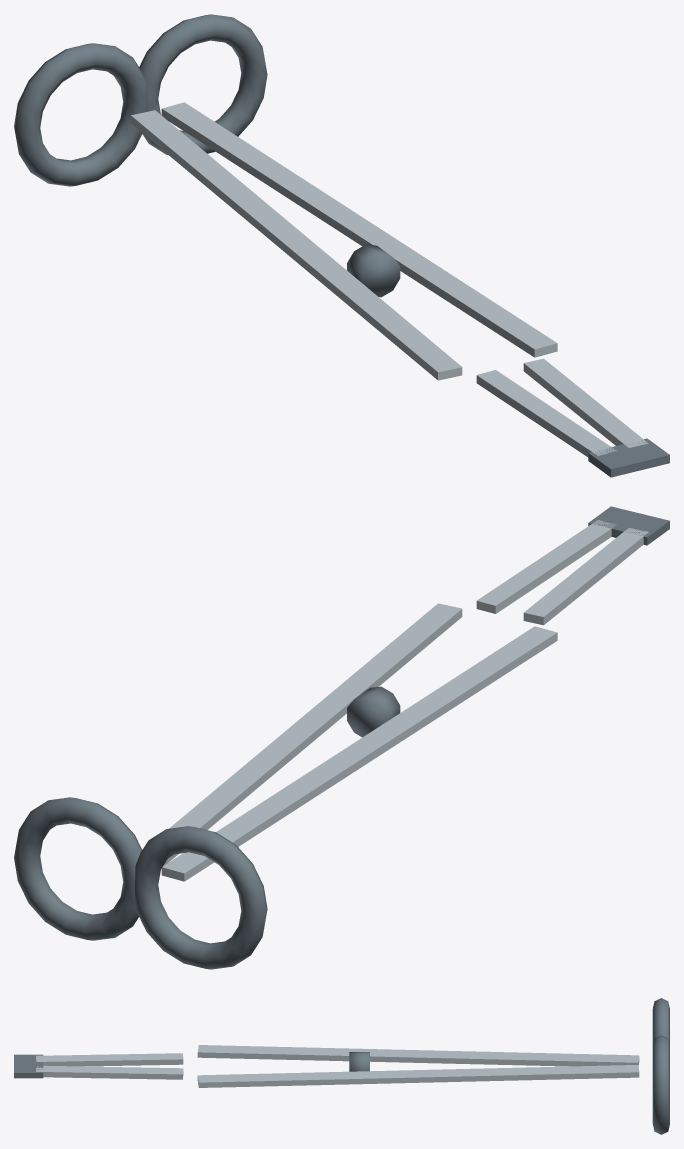
Rendered from straw-forceps.glb.
3 views of the same model, one above another, from view 1: azimuth 30°, elevation 25°; view 2: azimuth 150°, elevation 25°; view 3: azimuth 270°, elevation 25° (orthographic). The views are drawn at different scales.
Visible parts, largest first — view 1: straw-forceps; view 2: straw-forceps; view 3: straw-forceps.
Part boxes in pixels (x1,y1,x2,y2): straw-forceps: [14, 14, 669, 477]; straw-forceps: [14, 506, 669, 969]; straw-forceps: [14, 998, 669, 1134].
Bounding box in the file's own units: 0.128 × 0.067 × 0.4458.
